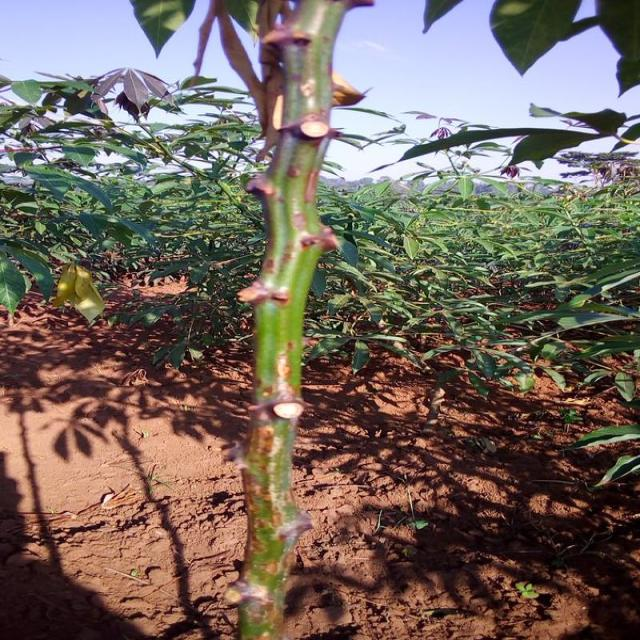cassava leaf: (488, 0, 582, 76), (130, 0, 196, 59), (51, 260, 105, 326)
